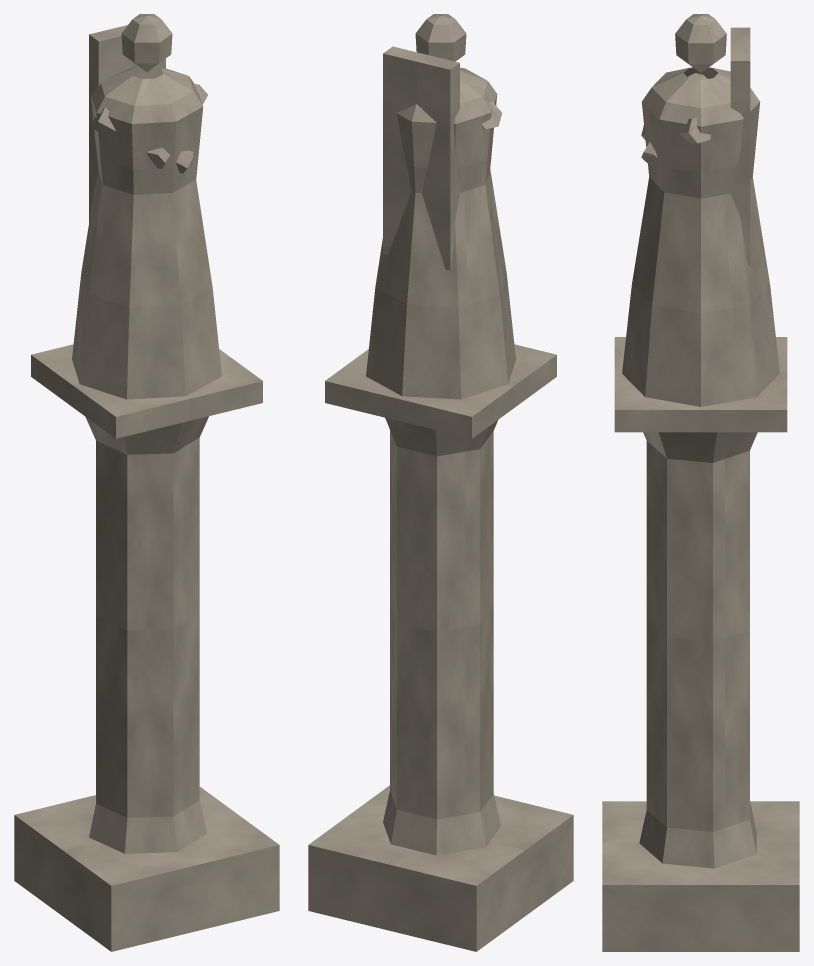
Rendered from Statue_Garden_1_LOD1.gltf.
The picture shows the model from 3 angles, left to right: view 1: azimuth 30°, elevation 25°; view 2: azimuth 150°, elevation 25°; view 3: azimuth 270°, elevation 25°; orthographic projection.
Parts seen in each view (by area): view 1: Statue_Garden_1_LOD1; view 2: Statue_Garden_1_LOD1; view 3: Statue_Garden_1_LOD1.
Part boxes in pixels (x1,y1,x2,y2): Statue_Garden_1_LOD1: (14,14,279,951); Statue_Garden_1_LOD1: (308,14,573,951); Statue_Garden_1_LOD1: (602,14,799,951).
Size of the model in its own units: 0.8 by 4 by 0.8.
1 material, 1 textured.
